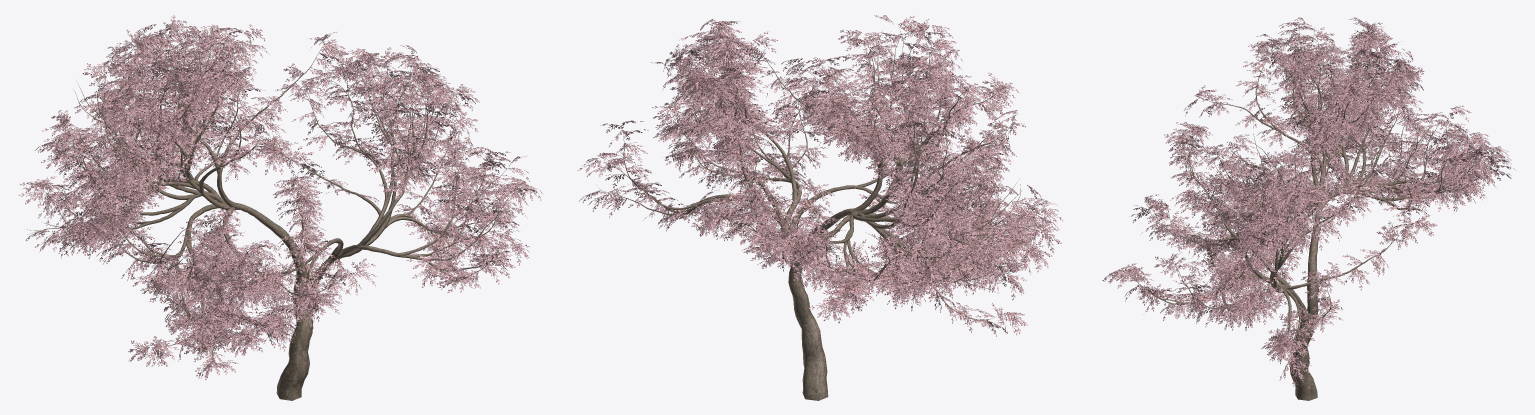
File: cherry-b.glb
The picture shows the model from 3 angles, left to right: view 1: azimuth 30°, elevation 25°; view 2: azimuth 150°, elevation 25°; view 3: azimuth 270°, elevation 25°; orthographic projection. The views are drawn at different scales.
Visible parts, largest first — view 1: foliage, bark; view 2: foliage, bark; view 3: foliage, bark.
Part boxes in pixels (x1=…): foliage: x1=18, y1=15, x2=542, y2=379; bark: x1=27, y1=24, x2=513, y2=400; foliage: x1=577, y1=15, x2=1062, y2=336; bark: x1=600, y1=26, x2=1040, y2=400; foliage: x1=1102, y1=17, x2=1516, y2=386; bark: x1=1130, y1=26, x2=1493, y2=400.
Size of the model in its own units: 6.29 by 4.6 by 5.28.
Materials: 2 (2 with a texture image).
